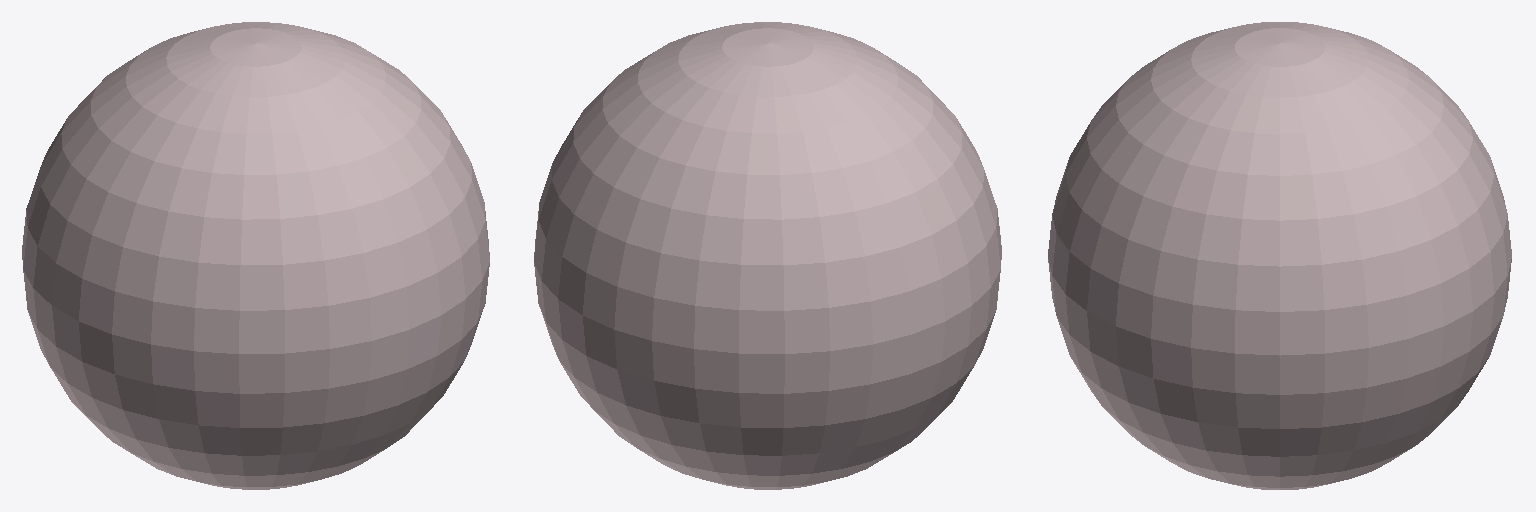
Rendered from SpotLight.obj.
3 views of the same model, side by side, from view 1: azimuth 30°, elevation 25°; view 2: azimuth 150°, elevation 25°; view 3: azimuth 270°, elevation 25° (orthographic).
Visible parts, largest first — view 1: Sphere; view 2: Sphere; view 3: Sphere.
Boxes of the visible parts, x1,y1,x2,y2 form: Sphere: [22, 22, 489, 489]; Sphere: [534, 22, 1001, 489]; Sphere: [1048, 22, 1511, 489].
Size of the model in its own units: 0.2308 by 0.2299 by 0.2276.